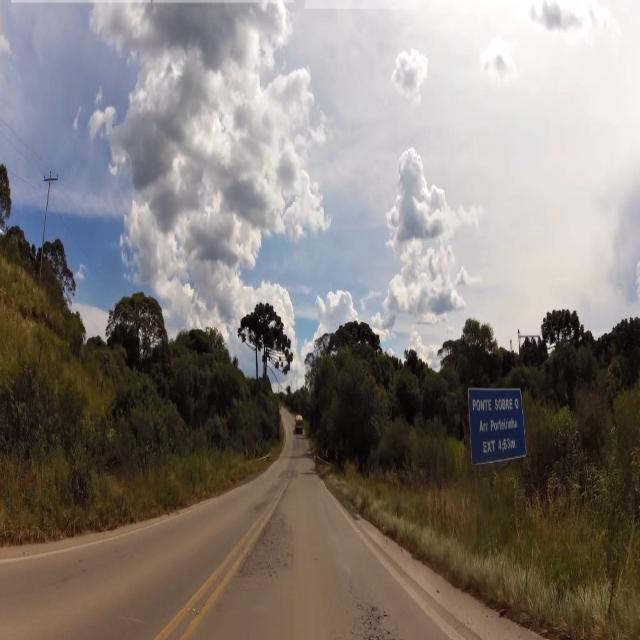LOC-6: (466, 386, 525, 462)
